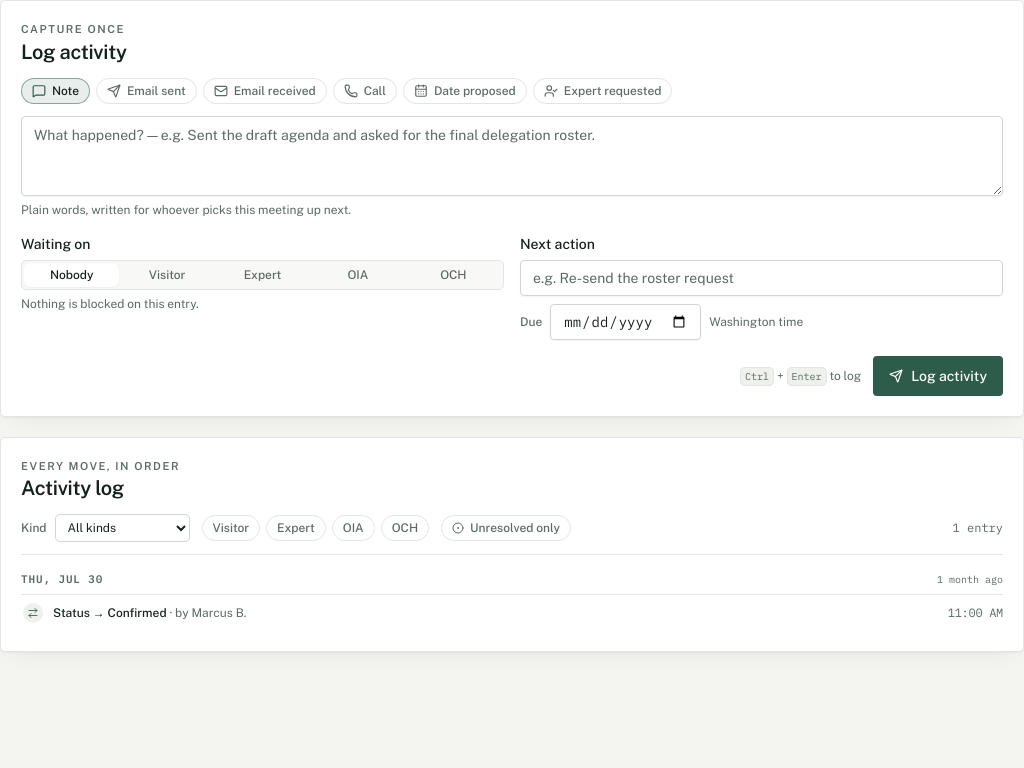
Test case: ActivityComposer › asks who exactly only once a waiting-on party is chosen
Expected: the field labelled "Who exactly?" is not shown
Click the radio button labelled "Visitor" at {"x": 167, "y": 274}, box left=149, top=268, right=185, bottom=282
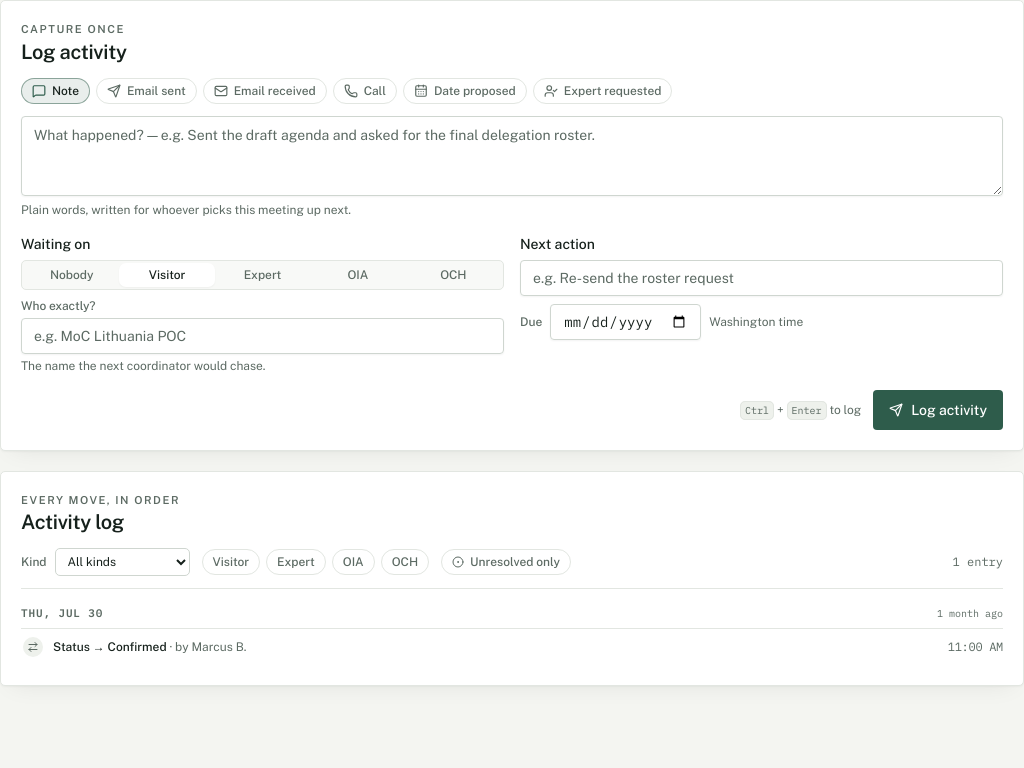
Expected: the field labelled "Who exactly?" is shown, left=21, top=318, right=504, bottom=354
Click the radio button labelled "Nobody" at {"x": 72, "y": 274}, box left=50, top=268, right=94, bottom=282
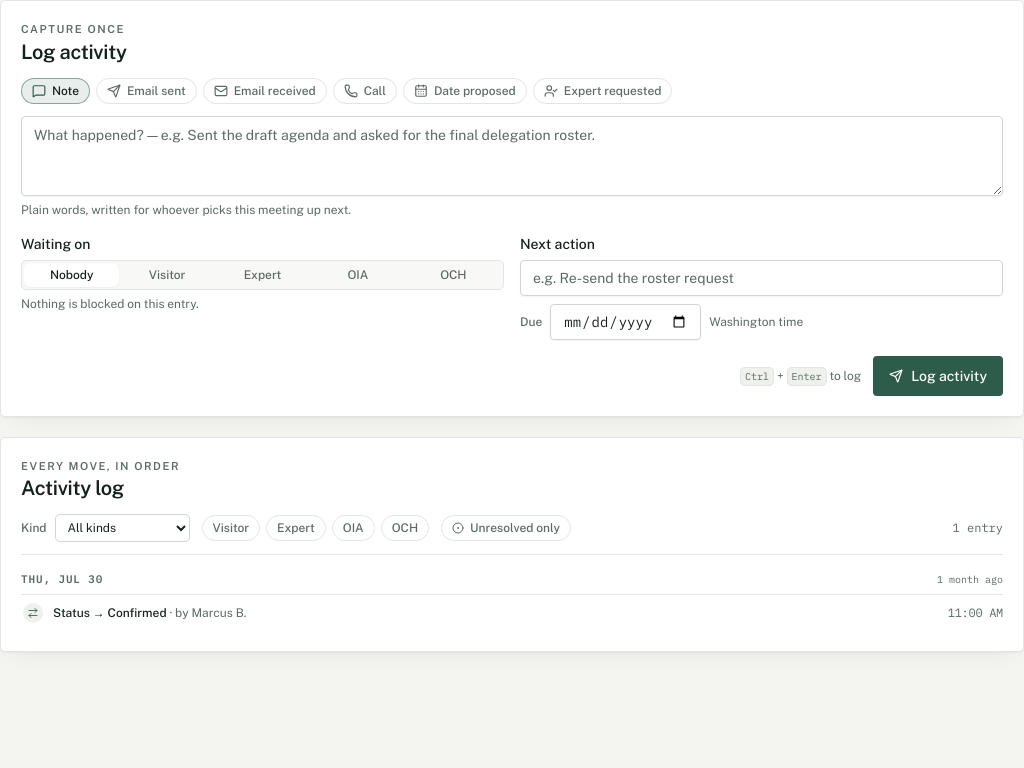
Expected: the label labelled "Who exactly?" is gone
